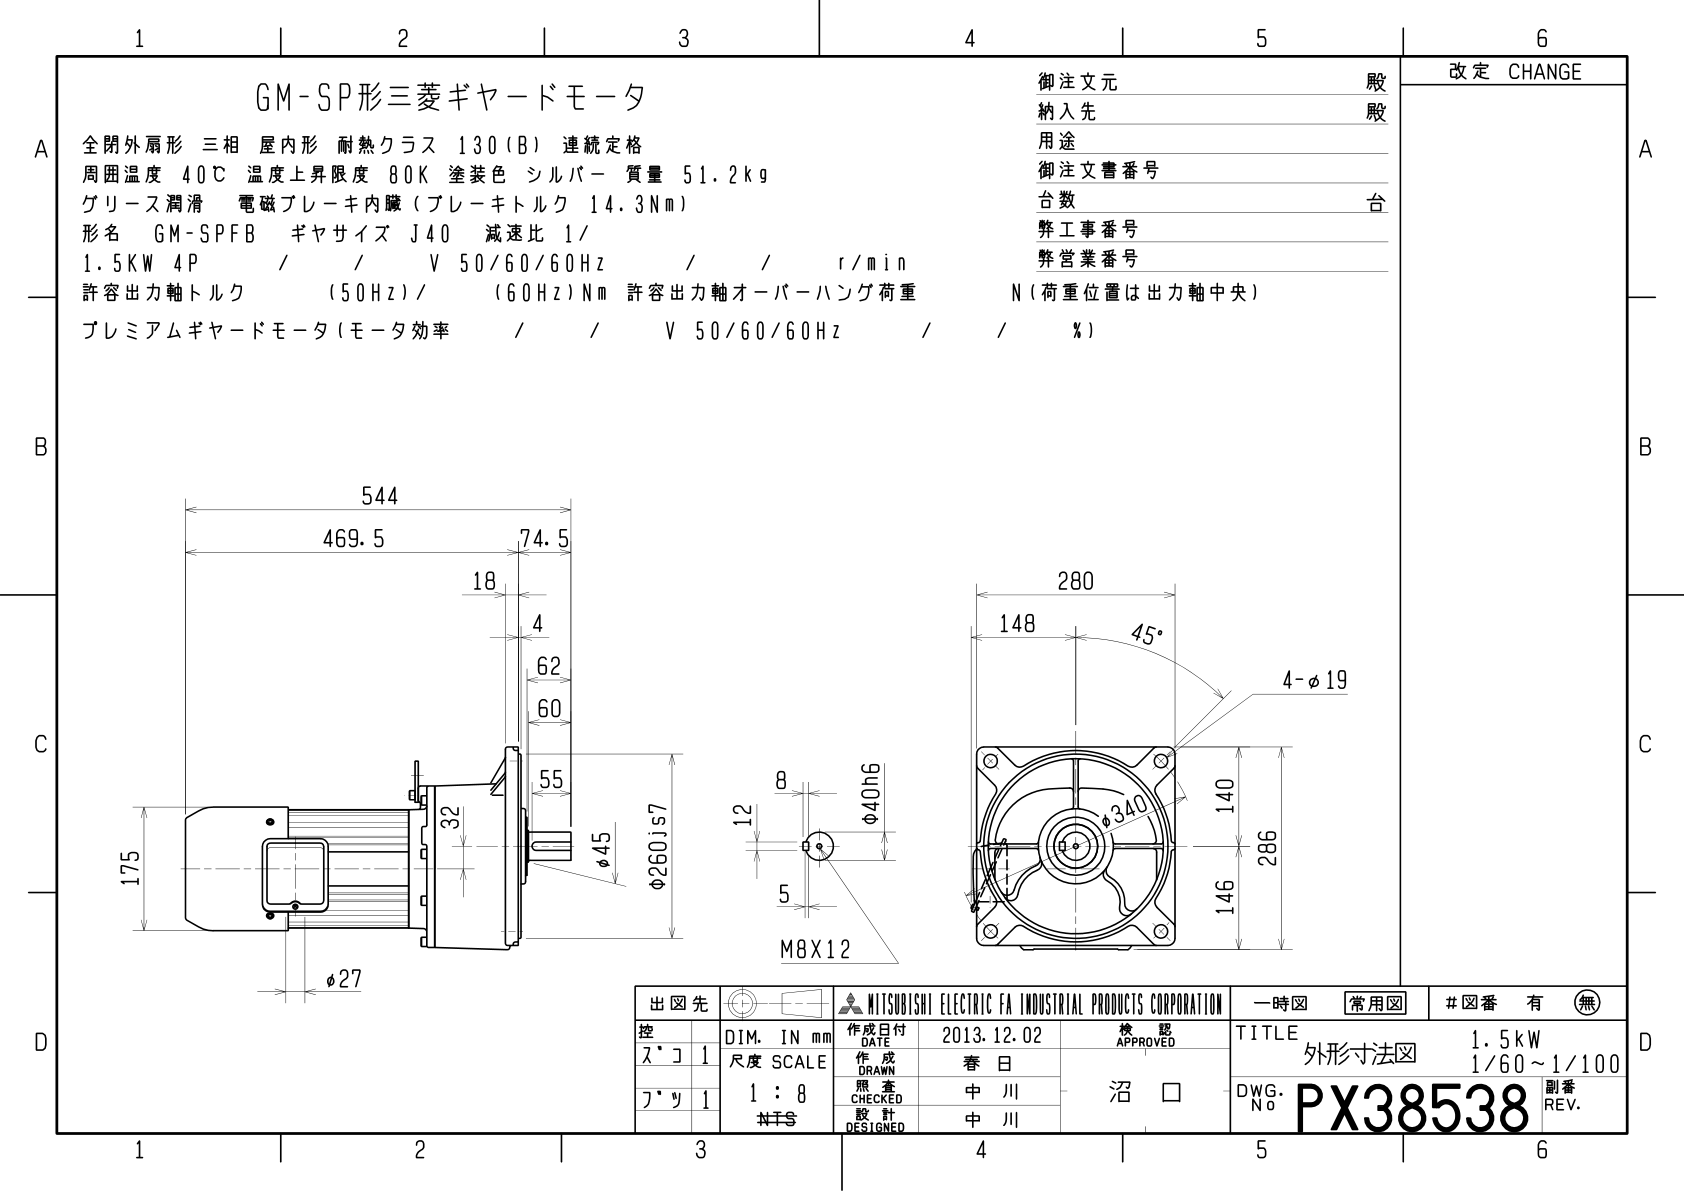GM_SP_屋内_三相_フランジ: (91, 447, 1379, 971)
